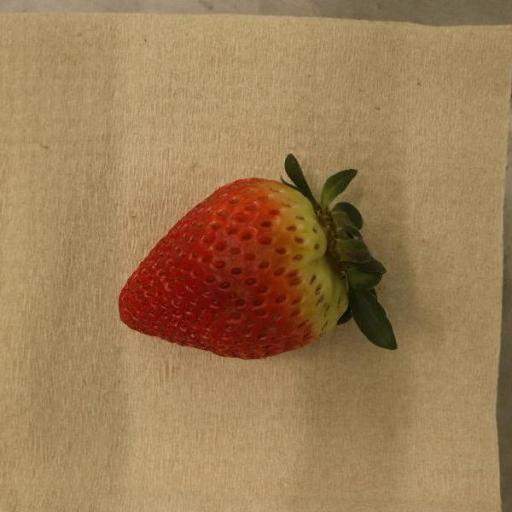Strawberry: (118, 154, 399, 361)
